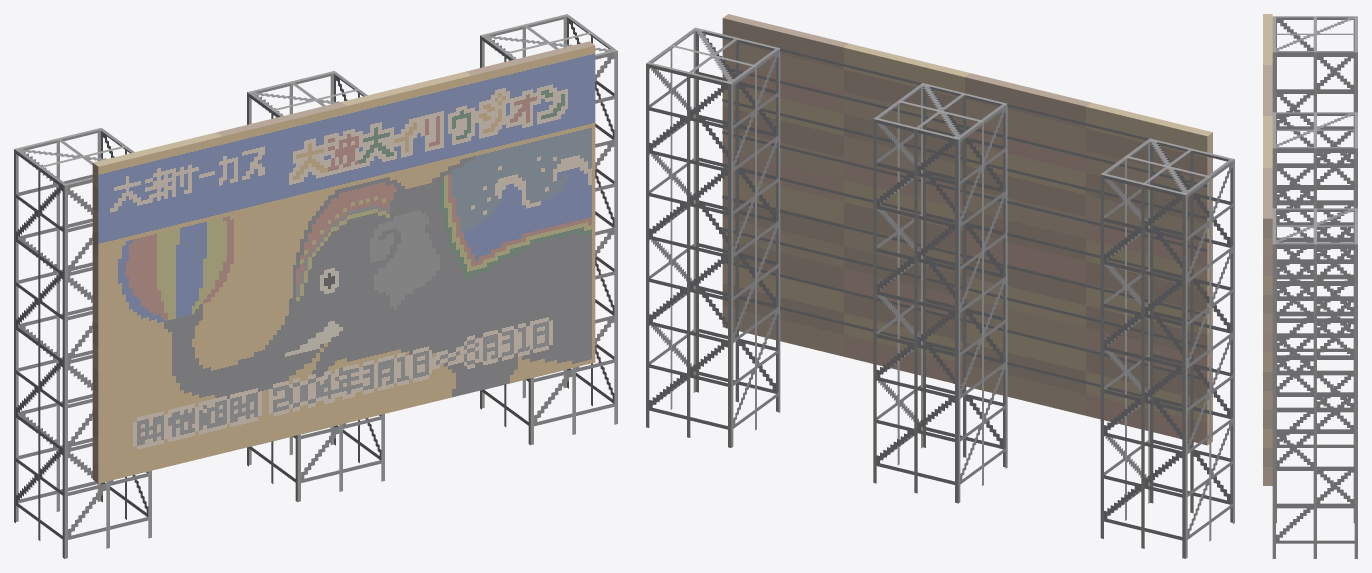
Rendered from 04a4_Circus_Sign.glb.
3 renders of one model, left to right at view 1: azimuth 30°, elevation 25°; view 2: azimuth 150°, elevation 25°; view 3: azimuth 270°, elevation 25°, orthographic. The views are drawn at different scales.
Visible parts, largest first — view 1: part_0; view 2: part_0; view 3: part_0.
Part boxes in pixels (x1,y1,x2,y2): part_0: (14,14,617,558); part_0: (646,14,1234,558); part_0: (1263,14,1357,558).
Size of the model in its own units: 14.25 by 9.59 by 2.51.
1 material, 1 textured.
